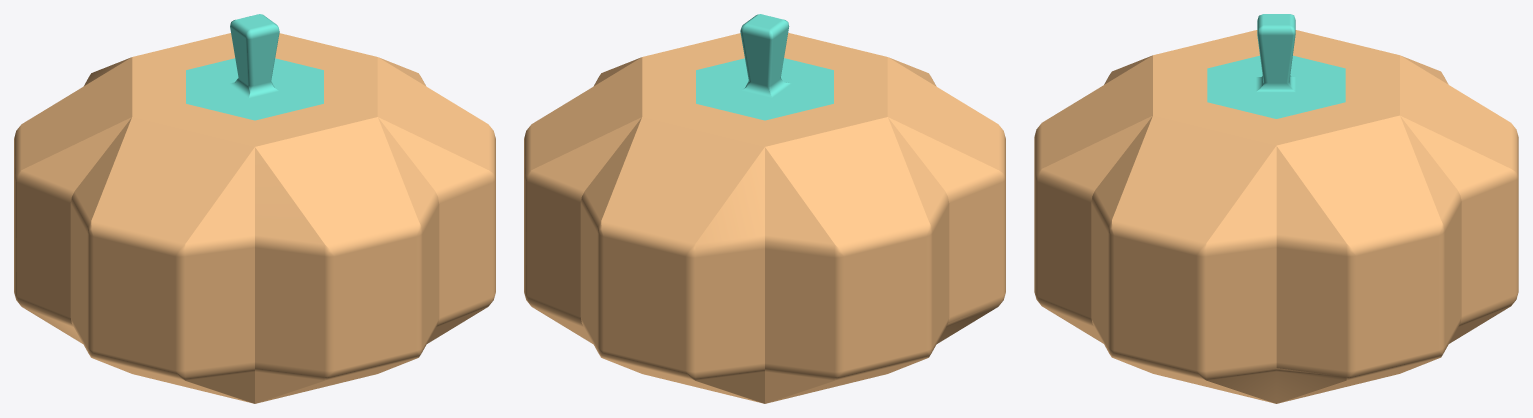
The model's file is crop_pumpkin.glb.
3 views of the same model, side by side, from view 1: azimuth 30°, elevation 25°; view 2: azimuth 150°, elevation 25°; view 3: azimuth 270°, elevation 25° (orthographic).
Visible parts, largest first — view 1: crop_pumpkin; view 2: crop_pumpkin; view 3: crop_pumpkin.
Part boxes in pixels (<box>): crop_pumpkin: <box>14,14,495,403</box>; crop_pumpkin: <box>524,14,1005,403</box>; crop_pumpkin: <box>1034,14,1518,403</box>.
Size of the model in its own units: 0.4389 by 0.3338 by 0.4519.
